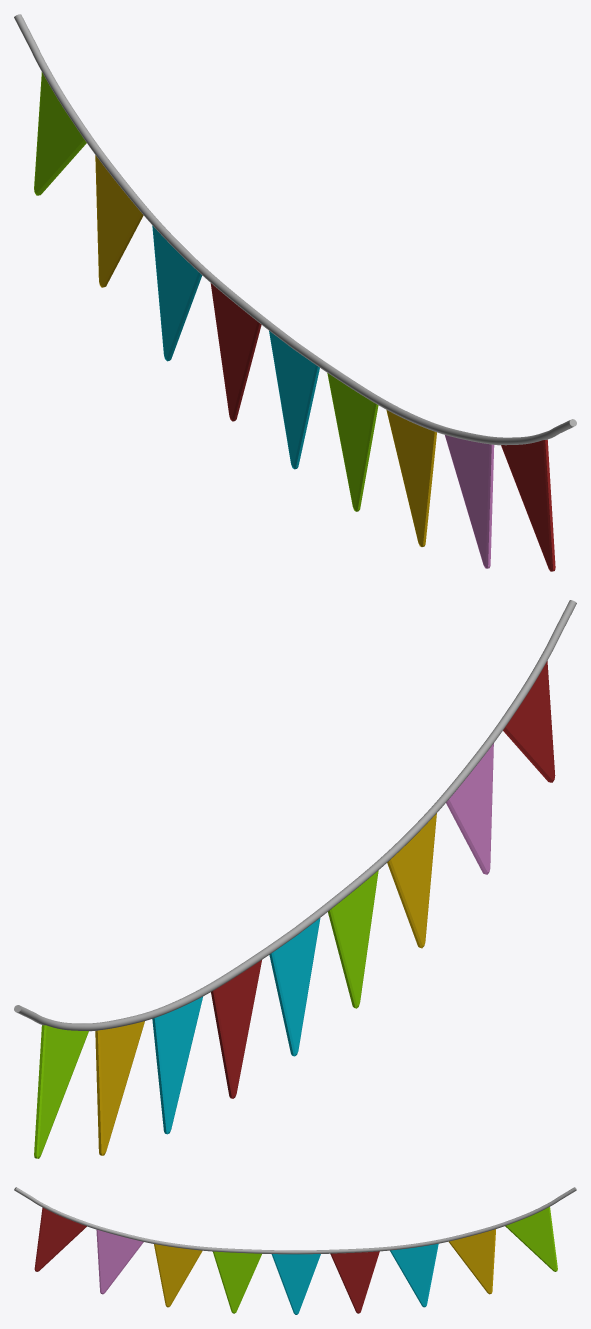
File: Party Flags.fbx
The picture shows the model from 3 angles, top to bottom: view 1: azimuth 30°, elevation 25°; view 2: azimuth 150°, elevation 25°; view 3: azimuth 270°, elevation 25°; orthographic projection. The views are drawn at different scales.
Visible parts, largest first — view 1: pCylinder3, polySurface7, polySurface6, polySurface9, polySurface8, polySurface5, polySurface1, polySurface4, polySurface3, polySurface2; view 2: pCylinder3, polySurface2, polySurface3, polySurface4, polySurface5, polySurface1, polySurface9, polySurface8, polySurface7, polySurface6; view 3: pCylinder3, polySurface5, polySurface9, polySurface3, polySurface2, polySurface1, polySurface4, polySurface7, polySurface8, polySurface6.
Boxes of the visible parts, <box> form: pCylinder3: <box>14,14,576,445</box>; polySurface7: <box>445,435,494,568</box>; polySurface6: <box>501,439,555,571</box>; polySurface9: <box>327,373,378,511</box>; polySurface8: <box>386,410,436,546</box>; polySurface5: <box>210,283,261,421</box>; polySurface1: <box>269,331,319,469</box>; polySurface4: <box>152,225,202,361</box>; polySurface3: <box>95,155,143,287</box>; polySurface2: <box>34,72,86,195</box>; pCylinder3: <box>14,600,576,1031</box>; polySurface2: <box>34,1025,88,1158</box>; polySurface3: <box>95,1021,144,1155</box>; polySurface4: <box>152,996,202,1134</box>; polySurface5: <box>211,960,261,1098</box>; polySurface1: <box>269,918,320,1056</box>; polySurface9: <box>328,870,378,1008</box>; polySurface8: <box>387,813,436,948</box>; polySurface7: <box>446,743,493,874</box>; polySurface6: <box>503,661,555,782</box>; pCylinder3: <box>14,1187,576,1254</box>; polySurface5: <box>330,1251,379,1313</box>; polySurface9: <box>213,1251,261,1313</box>; polySurface3: <box>449,1229,495,1294</box>; polySurface2: <box>505,1207,557,1271</box>; polySurface1: <box>271,1254,320,1314</box>; polySurface4: <box>390,1243,438,1307</box>; polySurface7: <box>96,1229,143,1294</box>; polySurface8: <box>154,1244,202,1307</box>; polySurface6: <box>34,1207,86,1271</box>.
Size of the model in its own units: 0.2127 by 7.43 by 29.82.
